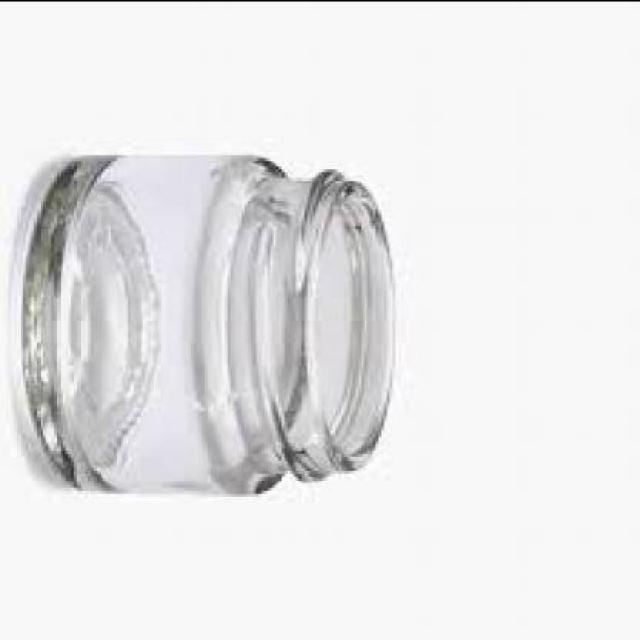GLASS: (23, 151, 399, 495)
